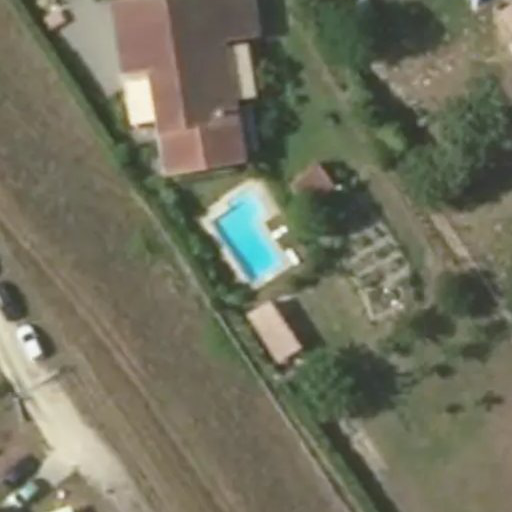pool: (219, 223, 302, 260)
